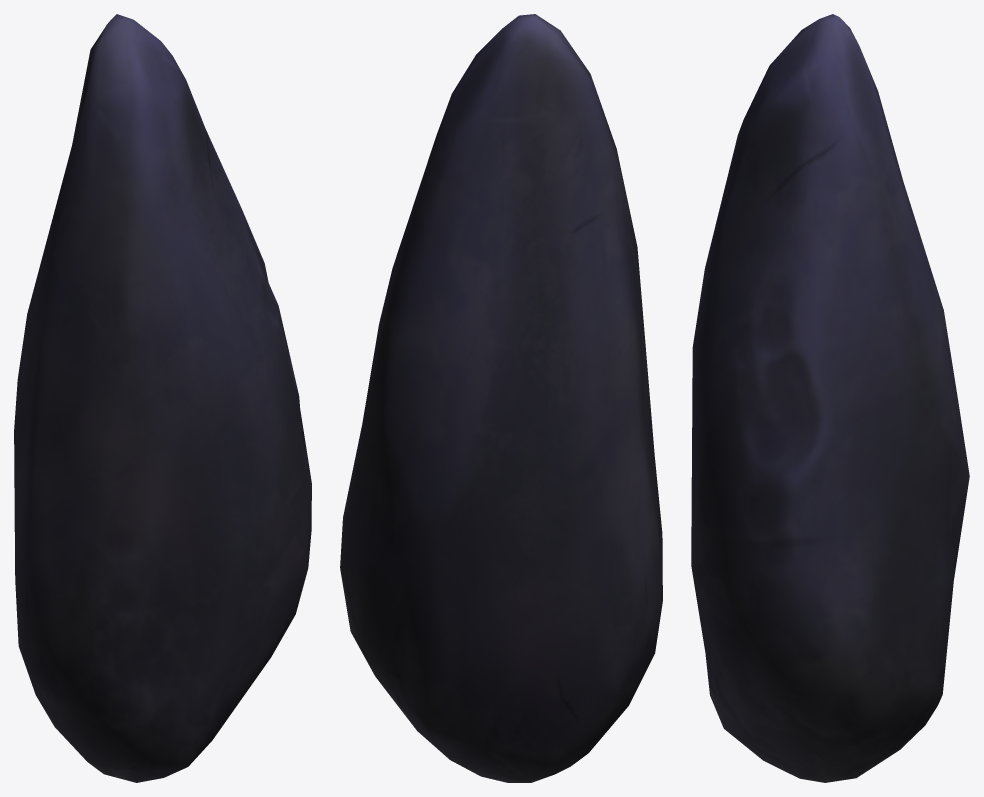
The model's file is SM_Gem_Obsidian_007.fbx.
3 views of the same model, side by side, from view 1: azimuth 30°, elevation 25°; view 2: azimuth 150°, elevation 25°; view 3: azimuth 270°, elevation 25° (orthographic). The views are drawn at different scales.
Visible parts, largest first — view 1: SM_Gem_Obsidian_007; view 2: SM_Gem_Obsidian_007; view 3: SM_Gem_Obsidian_007.
Boxes of the visible parts, <box> form: SM_Gem_Obsidian_007: <box>14,14,311,782</box>; SM_Gem_Obsidian_007: <box>340,14,662,782</box>; SM_Gem_Obsidian_007: <box>691,14,969,782</box>.
Bounding box in the file's own units: 31.23 × 80.54 × 27.17.
